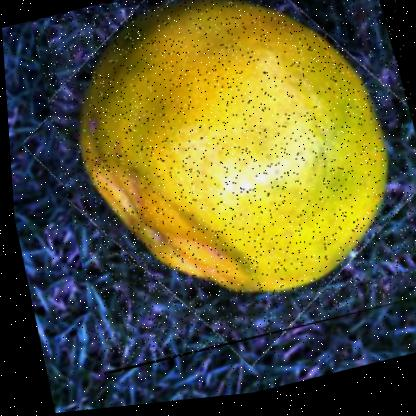orange: (27, 0, 415, 383)
